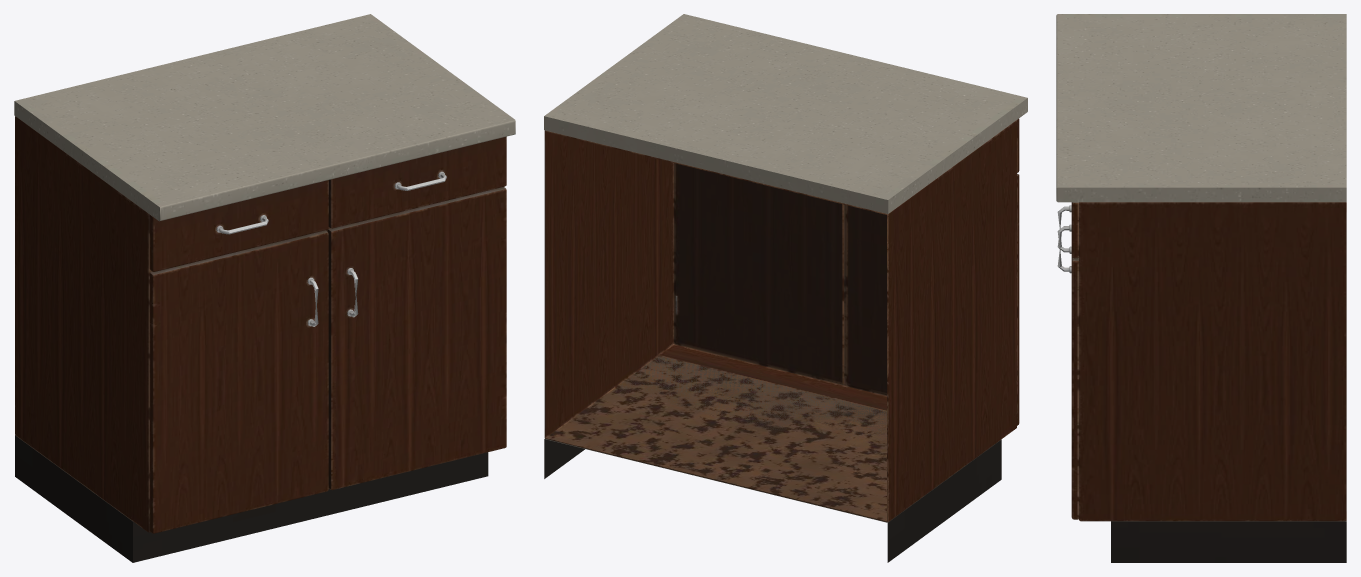
File: kit_base_90.glb
3 renders of one model, left to right at view 1: azimuth 30°, elevation 25°; view 2: azimuth 150°, elevation 25°; view 3: azimuth 270°, elevation 25°, orthographic. The views are drawn at different scales.
Visible parts, largest first — view 1: kit_base_90; view 2: kit_base_90; view 3: kit_base_90.
Part boxes in pixels (x1,y1,x2,y2): kit_base_90: [14, 14, 515, 562]; kit_base_90: [544, 14, 1027, 562]; kit_base_90: [1056, 14, 1346, 562].
Size of the model in its own units: 0.898 by 0.905 by 0.635.
1 material, 1 textured.
